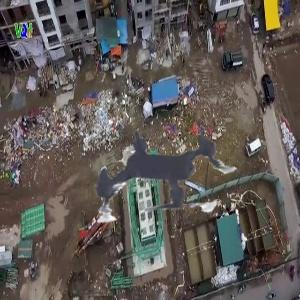drone: (53, 61, 276, 284)
